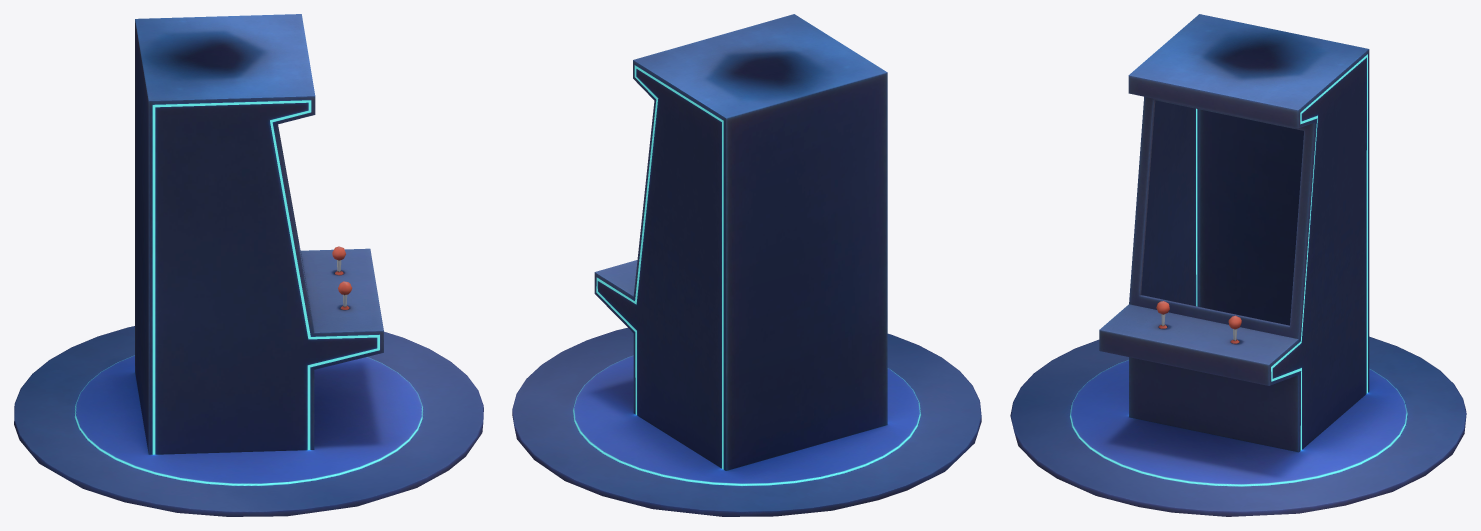
Rendered from GameStation_LOD3.glb.
The picture shows the model from 3 angles, left to right: view 1: azimuth 30°, elevation 25°; view 2: azimuth 150°, elevation 25°; view 3: azimuth 270°, elevation 25°; orthographic projection. The views are drawn at different scales.
Parts seen in each view (by area): view 1: Game Station_PROCESSED.001_LOD3; view 2: Game Station_PROCESSED.001_LOD3; view 3: Game Station_PROCESSED.001_LOD3.
Part boxes in pixels (left/top/right/bottom): Game Station_PROCESSED.001_LOD3: left=14, top=14, right=483, bottom=516; Game Station_PROCESSED.001_LOD3: left=512, top=14, right=981, bottom=516; Game Station_PROCESSED.001_LOD3: left=1010, top=14, right=1466, bottom=516.
Bounding box in the file's own units: 4.11 × 3.47 × 4.11.
1 material, 1 textured.
